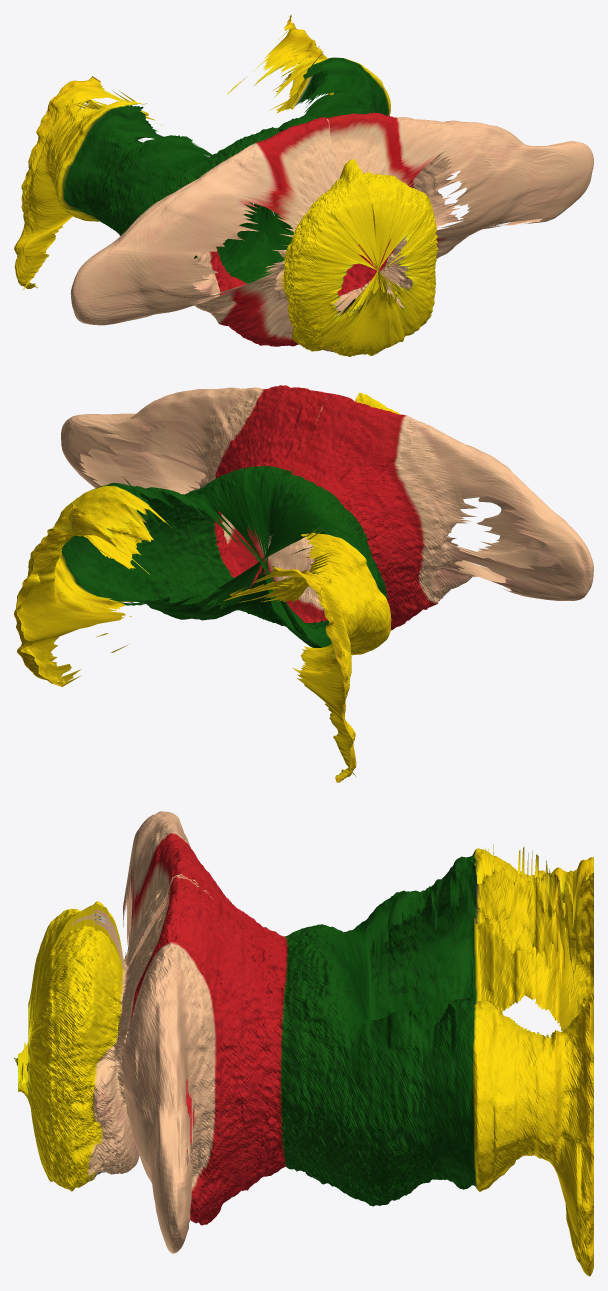
3 views of the same model, one above another, from view 1: azimuth 30°, elevation 25°; view 2: azimuth 150°, elevation 25°; view 3: azimuth 270°, elevation 25° (orthographic). The views are drawn at different scales.
Parts seen in each view (by area): view 1: geometry_0; view 2: geometry_0; view 3: geometry_0.
Part boxes in pixels (<box>): geometry_0: <box>14,14,593,356</box>; geometry_0: <box>14,385,593,782</box>; geometry_0: <box>14,811,593,1276</box>.
Size of the model in its own units: 1.93 by 0.8507 by 1.29.
Materials: 1 (1 with a texture image).
